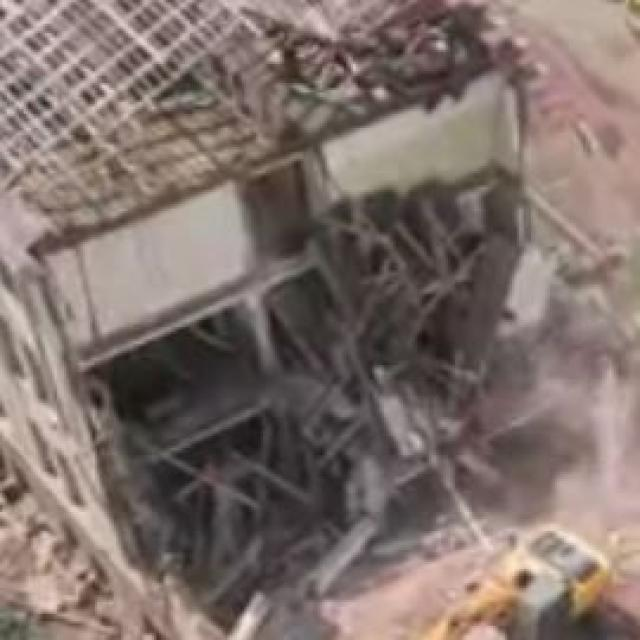collapsed_building: (26, 0, 535, 616)
